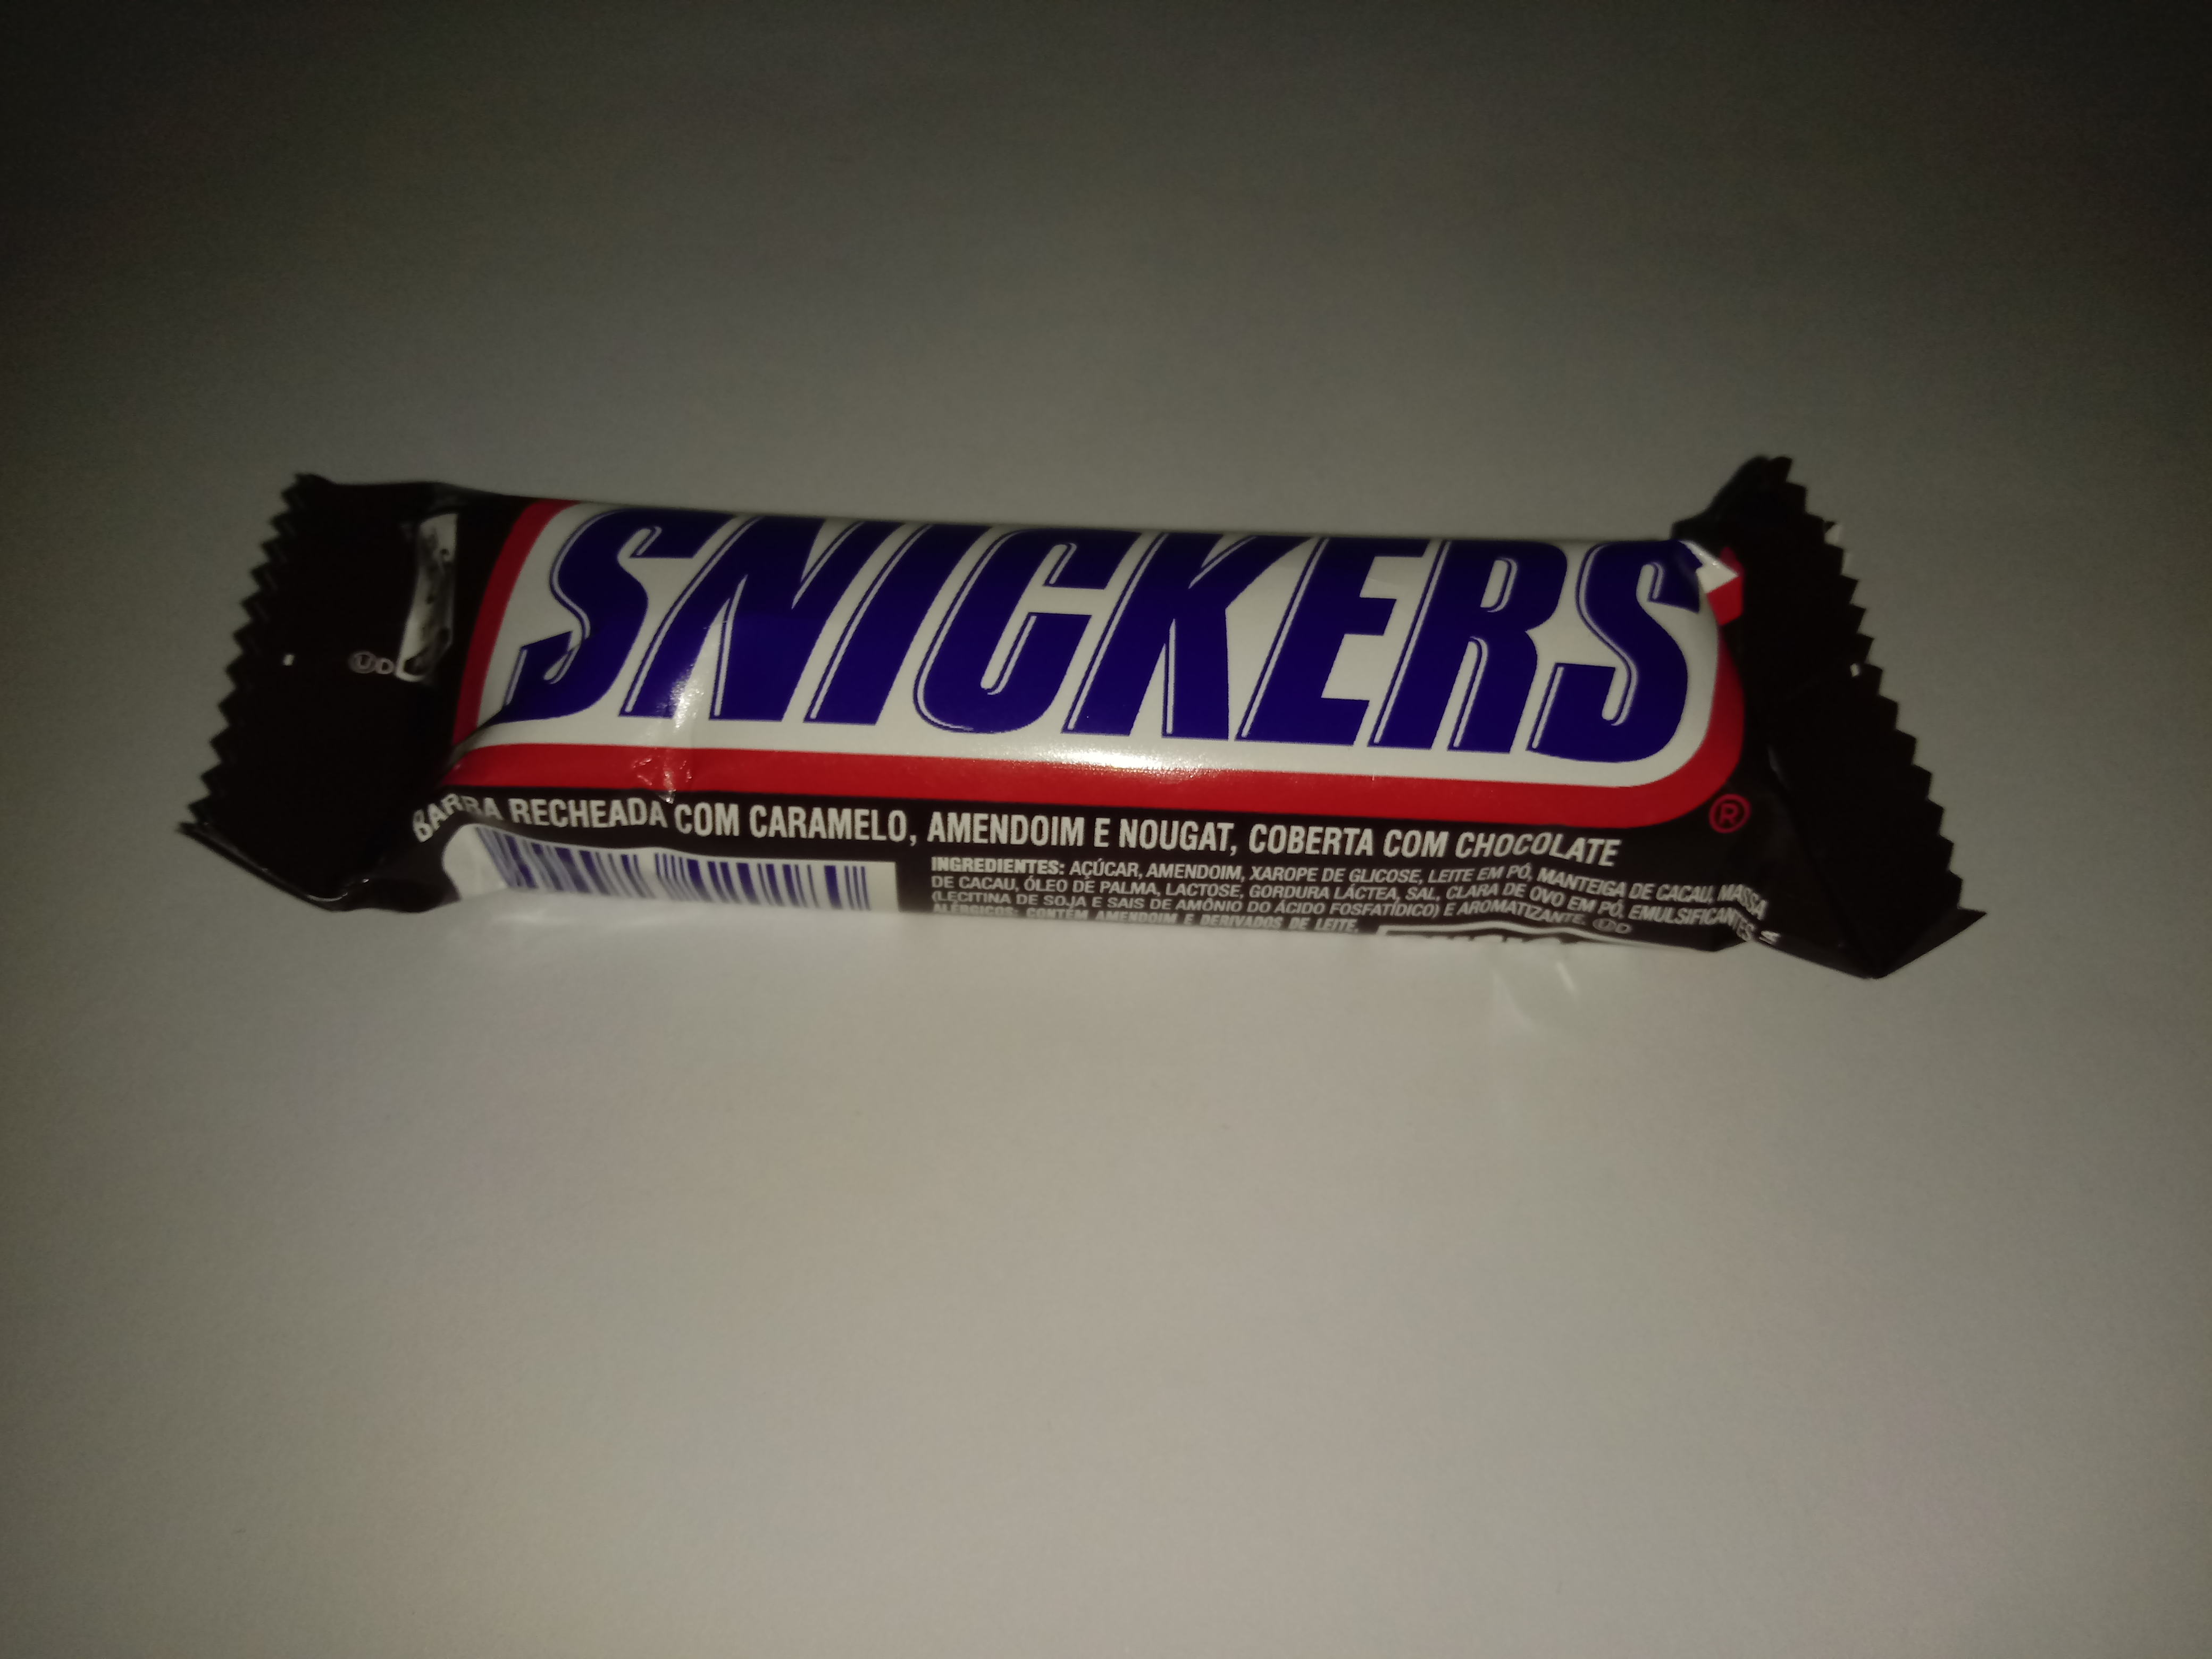snickers: (158, 443, 1993, 1014)
